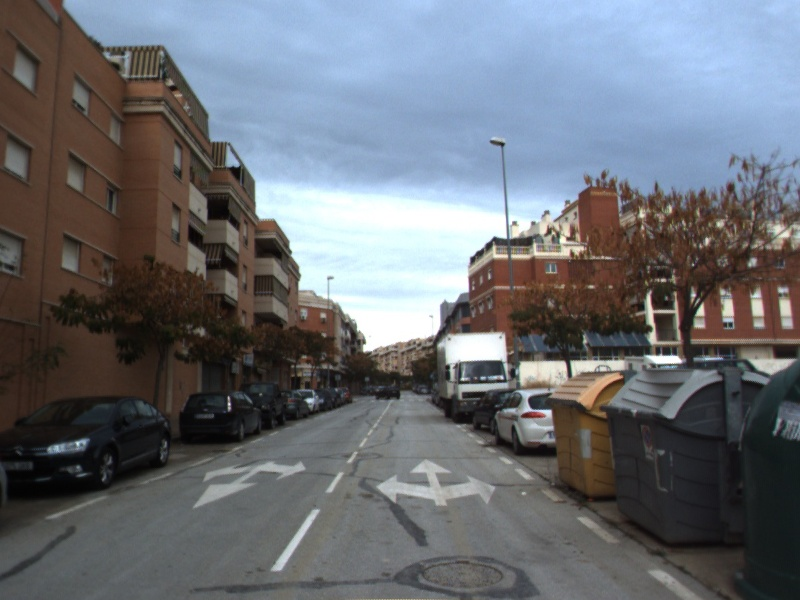STRAIGHT_LEFT_RIGHT: (374, 456, 498, 508)
